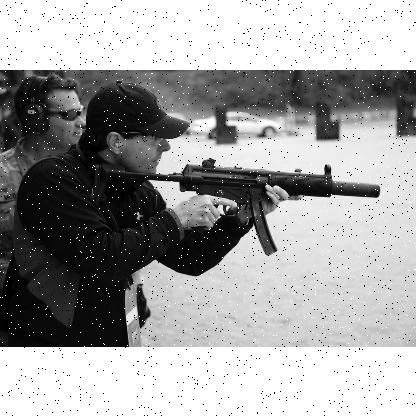gun: (93, 158, 379, 254)
